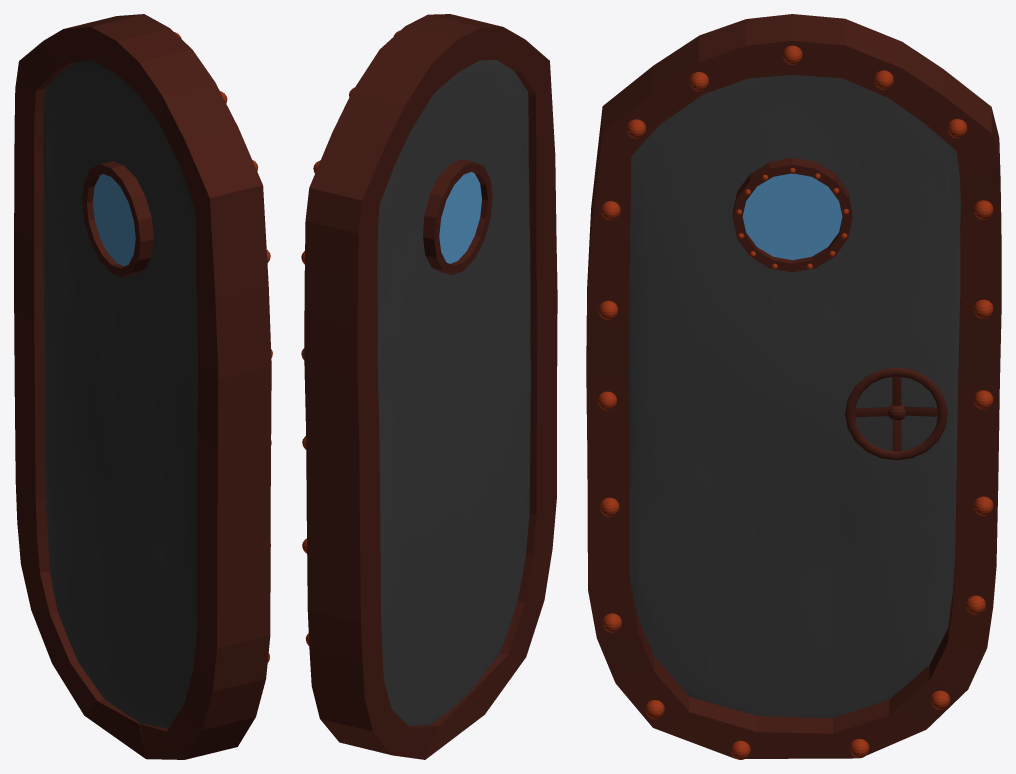
The model's file is Submarine_Door.fbx.
The picture shows the model from 3 angles, left to right: view 1: azimuth 30°, elevation 25°; view 2: azimuth 150°, elevation 25°; view 3: azimuth 270°, elevation 25°; orthographic projection. The views are drawn at different scales.
Parts seen in each view (by area): view 1: Submarine Door, Door Frame, Window Frame Back, Window Back; view 2: Submarine Door, Door Frame, Window Frame Back, Window Back; view 3: Submarine Door, Door Frame, Window Front, Door Frame Bolts, Window Frame Front, Door Handle.
Boxes of the visible parts, x1,y1,x2,y2 form: Submarine Door: (43, 60, 197, 728); Door Frame: (14, 14, 271, 759); Window Frame Back: (82, 161, 153, 277); Window Back: (93, 174, 135, 266); Submarine Door: (377, 60, 530, 726); Door Frame: (304, 14, 557, 759); Window Frame Back: (423, 159, 492, 274); Window Back: (439, 172, 481, 263); Submarine Door: (628, 74, 960, 718); Door Frame: (586, 14, 1001, 758); Window Front: (742, 173, 842, 260); Door Frame Bolts: (597, 45, 993, 759); Window Frame Front: (732, 157, 852, 272); Door Handle: (845, 367, 947, 460).
Size of the model in its own units: 17.9 by 168 by 88.27.
